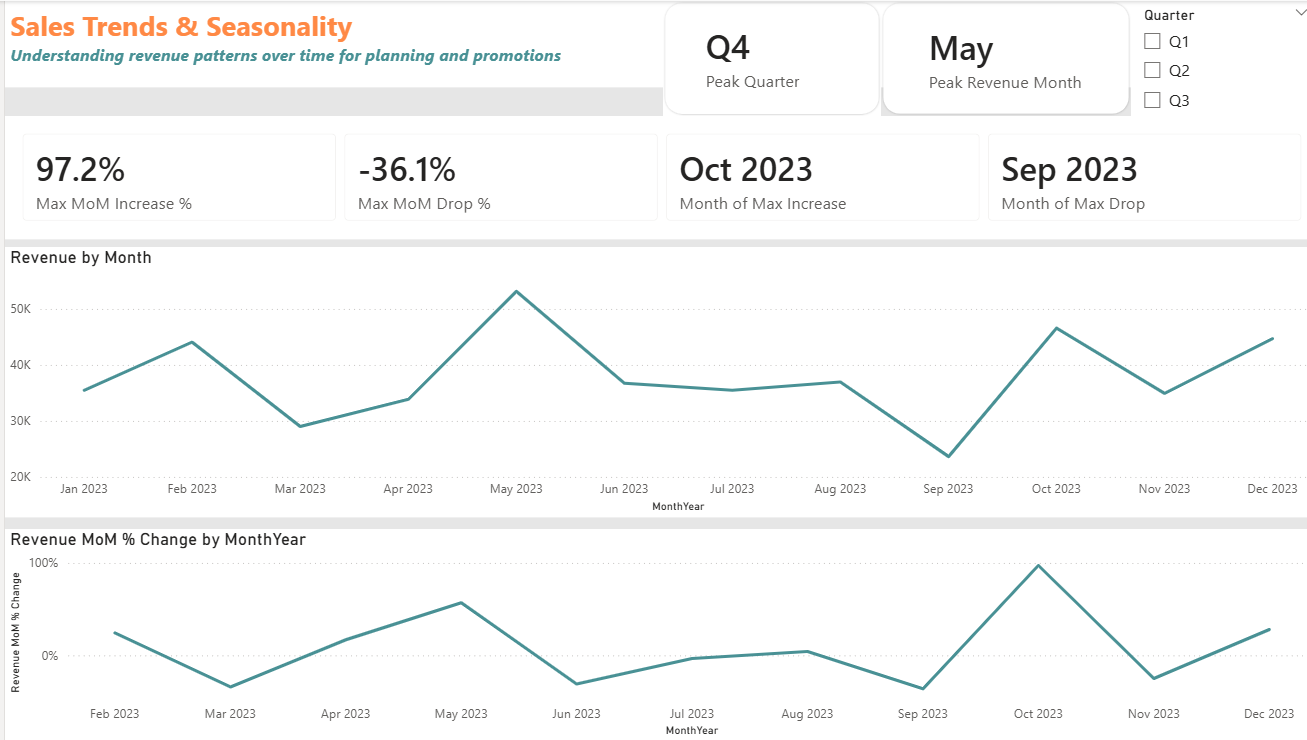

This screenshot's page, from the dashboard's own definition file:
{"tool":"powerbi","page":{"name":"Time Trends and Seasonal Analysis","canvas":[1280,720],"ordinal":3},"visuals":[{"type":"textbox","box":[0,0,1280,83.6],"z":0},{"type":"group","id":"g1","title":"Group 1","box":[852,0,243.2,111.9],"z":1000},{"type":"group","id":"g2","title":"Group 1","box":[640,0,212,112],"z":2000},{"type":"lineChart","title":"Revenue by Month","fields":{"Y":["Sum(fact_sales.total_amount)"],"Category":["DateTable.MonthYear"]},"box":[0,239.3,1280,262.6],"z":3000},{"type":"slicer","fields":{"Values":["DateTable.Quarter"]},"box":[1095,0,185,112],"z":4000},{"type":"lineChart","fields":{"Y":["_Measures.Revenue MoM % Change"],"Category":["DateTable.MonthYear"]},"box":[0,513.6,1279.7,206.8],"z":5000},{"type":"cardVisual","fields":{"Data":["_Measures.Max MoM Increase %","_Measures.Max MoM Drop %","_Measures.Month of Max Increase","_Measures.Month of Max Drop"]},"box":[0,111.9,1280,119.6],"z":6000},{"type":"shape","box":[640,0,212,112],"z":7500,"group":"g2"},{"type":"shape","box":[852,0,243.2,111.9],"z":7500,"group":"g1"},{"type":"cardVisual","fields":{"Data":["_Measures.Peak Quarter"]},"box":[653,8,150,94],"z":8000,"group":"g2"},{"type":"cardVisual","fields":{"Data":["_Measures.Peak Revenue Month"]},"box":[869.1,8.7,209,94.5],"z":8000,"group":"g1"}]}

Visuals, with their boxes in screenshot pixels (x1, y1, x2, y2), scaled from the page's 1280x720 canvas onto the 1307x740 screenshot:
textbox: (x1=0, y1=0, x2=1306, y2=86)
"Group 1" group: (x1=870, y1=0, x2=1118, y2=115)
"Group 1" group: (x1=654, y1=0, x2=870, y2=115)
"Revenue by Month" lineChart: (x1=0, y1=246, x2=1306, y2=516)
slicer - DateTable.Quarter: (x1=1118, y1=0, x2=1306, y2=115)
lineChart - _Measures.Revenue MoM % Change x DateTable.MonthYear: (x1=0, y1=528, x2=1306, y2=739)
cardVisual - _Measures.Max MoM Increase % x _Measures.Max MoM Drop %: (x1=0, y1=115, x2=1306, y2=238)
shape: (x1=654, y1=0, x2=870, y2=115)
shape: (x1=870, y1=0, x2=1118, y2=115)
cardVisual - _Measures.Peak Quarter: (x1=667, y1=8, x2=820, y2=105)
cardVisual - _Measures.Peak Revenue Month: (x1=887, y1=9, x2=1101, y2=106)
